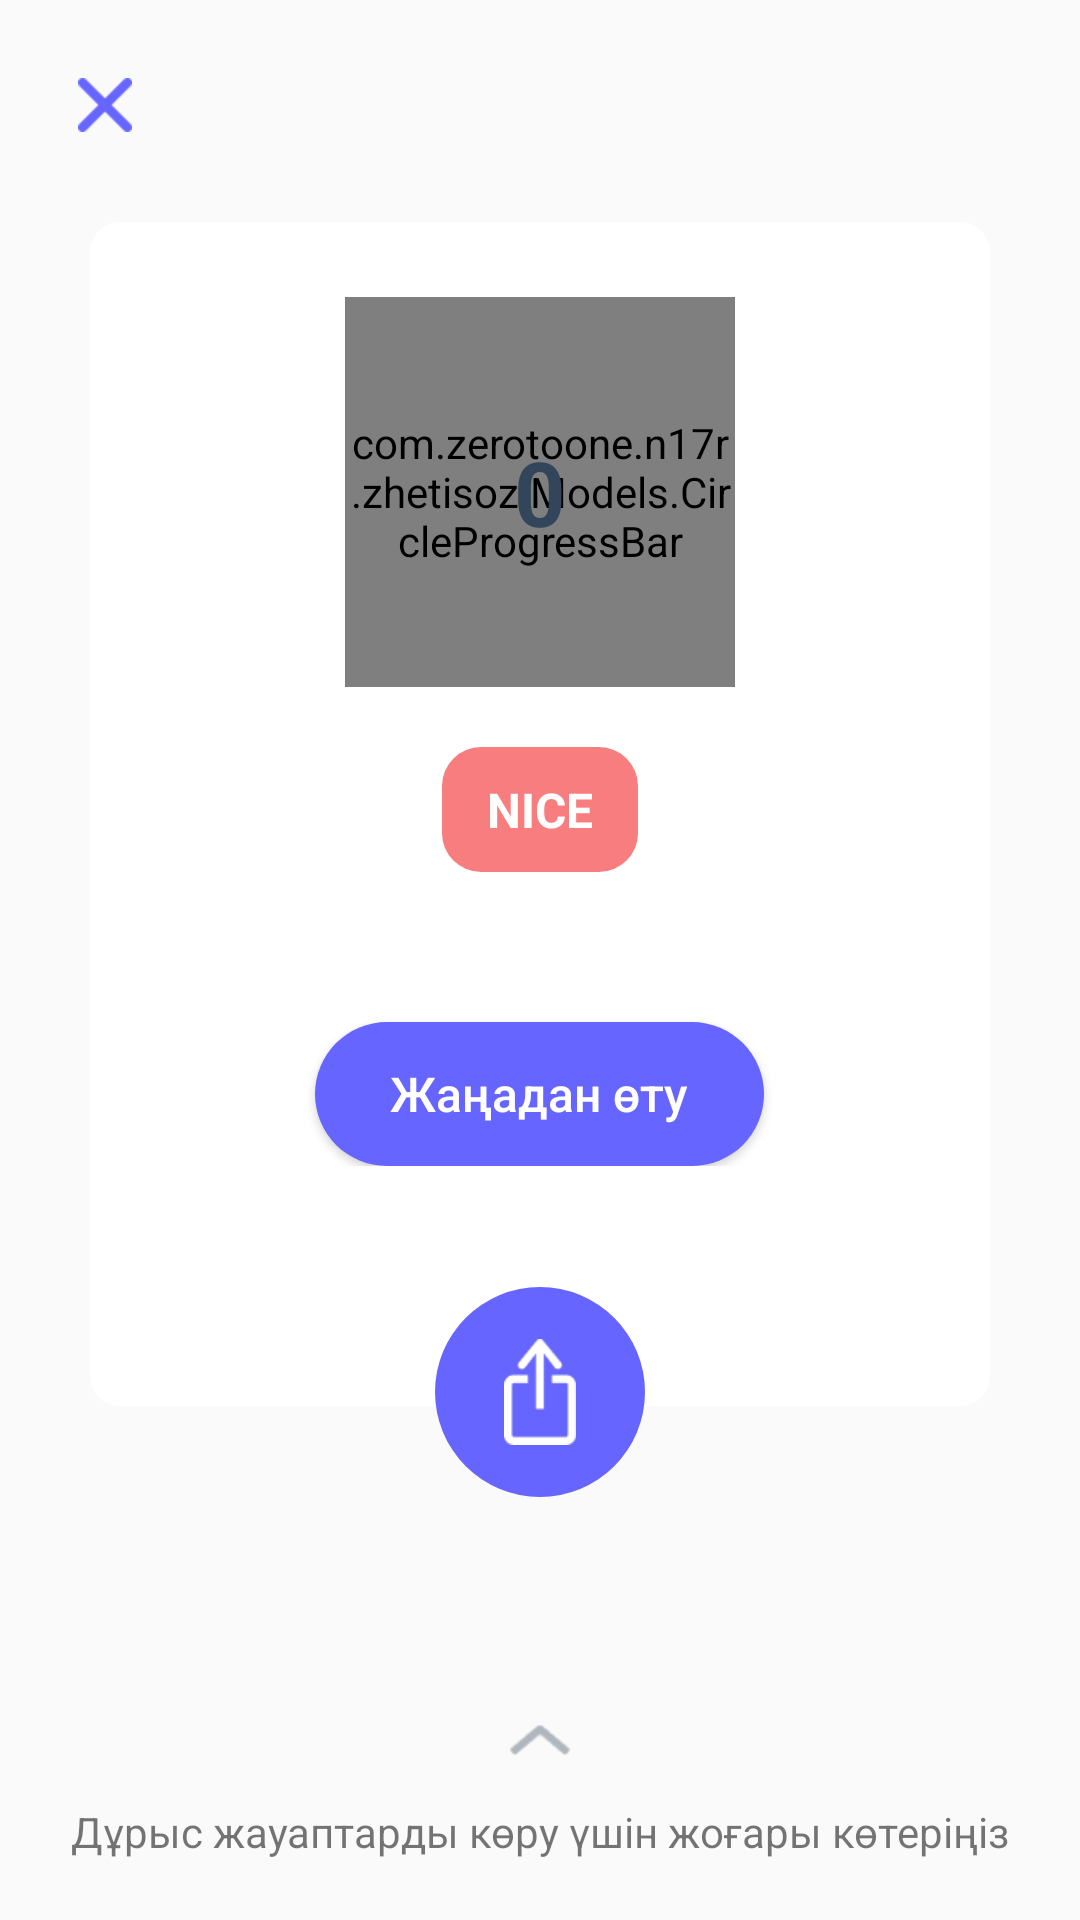

Icons on this 1080*1920 Android screen, each with its box as (x1,y1,x2,y2):
arrow up: (510,1725,570,1755)
close: (78,78,132,132)
share: (504,1339,576,1445)
